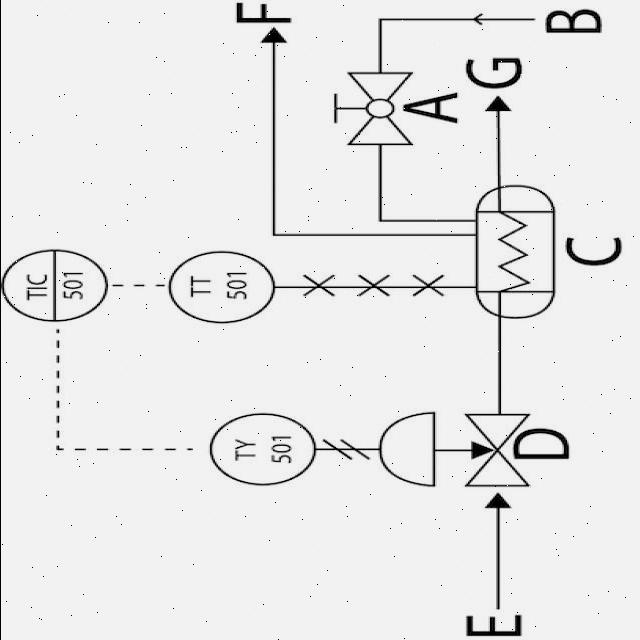Fail Closed Safe Position: (372, 399, 530, 492)
Hand Operated Ball Valve: (312, 57, 412, 159)
